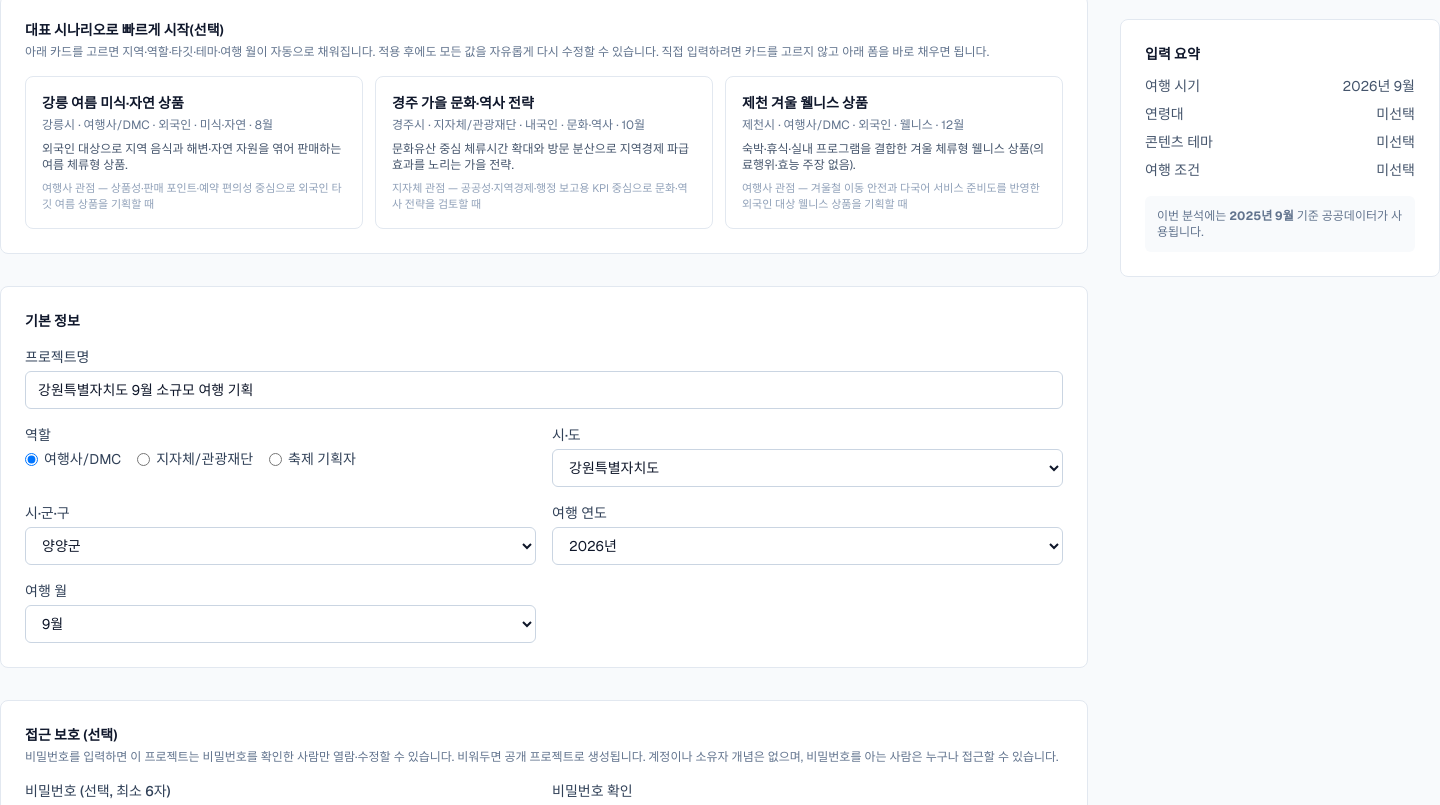
Test case: ProjectInputForm › 경주 시나리오 카드를 고르면 폼 필드에 정확한 값이 채워진다
The width and height of the screenshot is (1440, 805).
Click the button "경주 가을 문화·역사 전략" at (544, 153), box [375, 76, 713, 229]
(page scrolled)
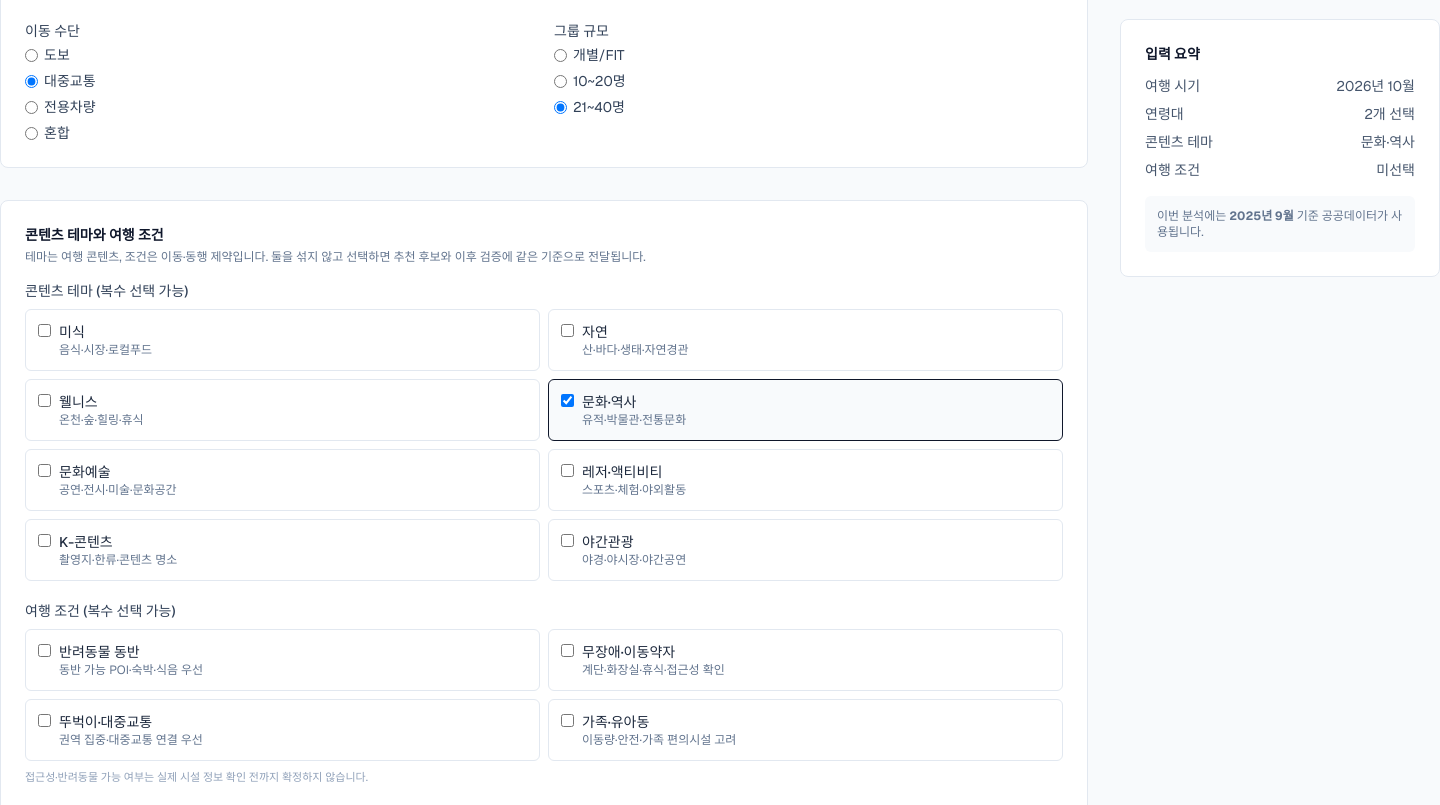
Now the checkbox labelled "문화·역사 유적·박물관·전통문화" is checked, box [561, 394, 574, 407]
